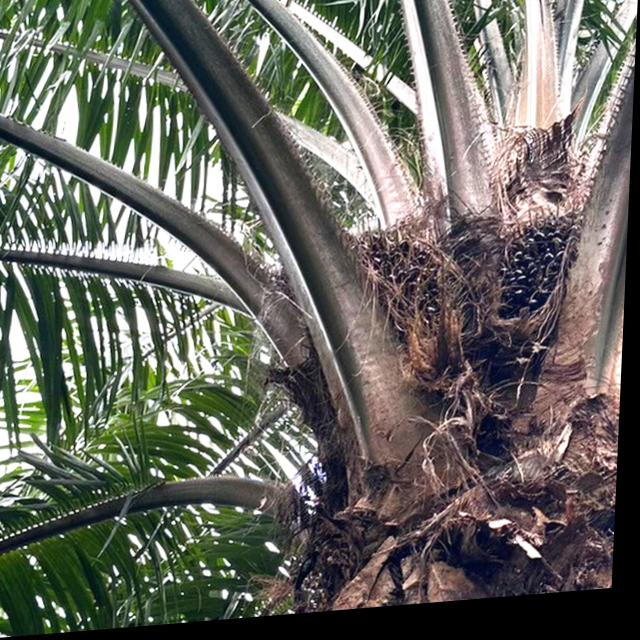ripe: (335, 209, 466, 388)
